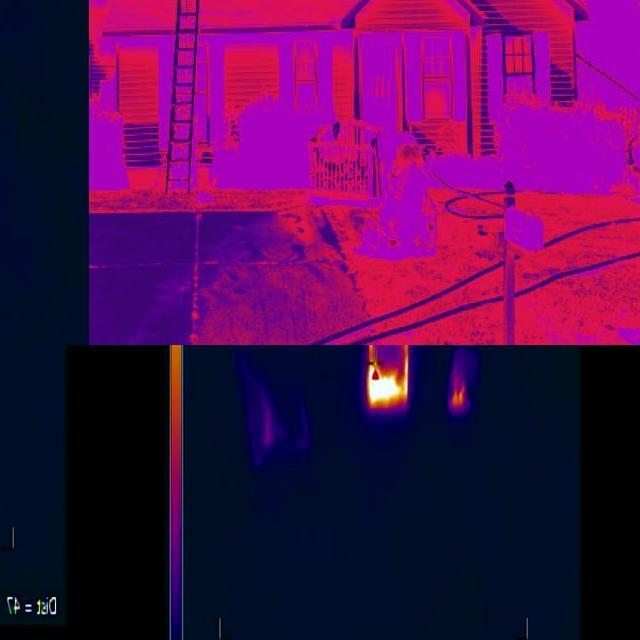fire: (365, 346, 412, 409), (450, 376, 468, 415)
